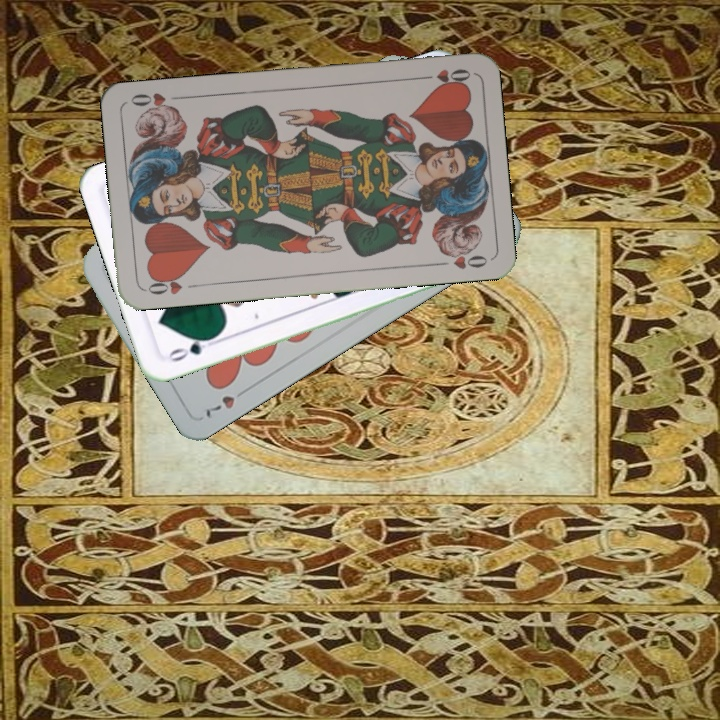GO: (162, 332, 218, 364)
H7: (199, 383, 252, 422)
HO: (142, 271, 201, 298), (414, 65, 474, 89)
